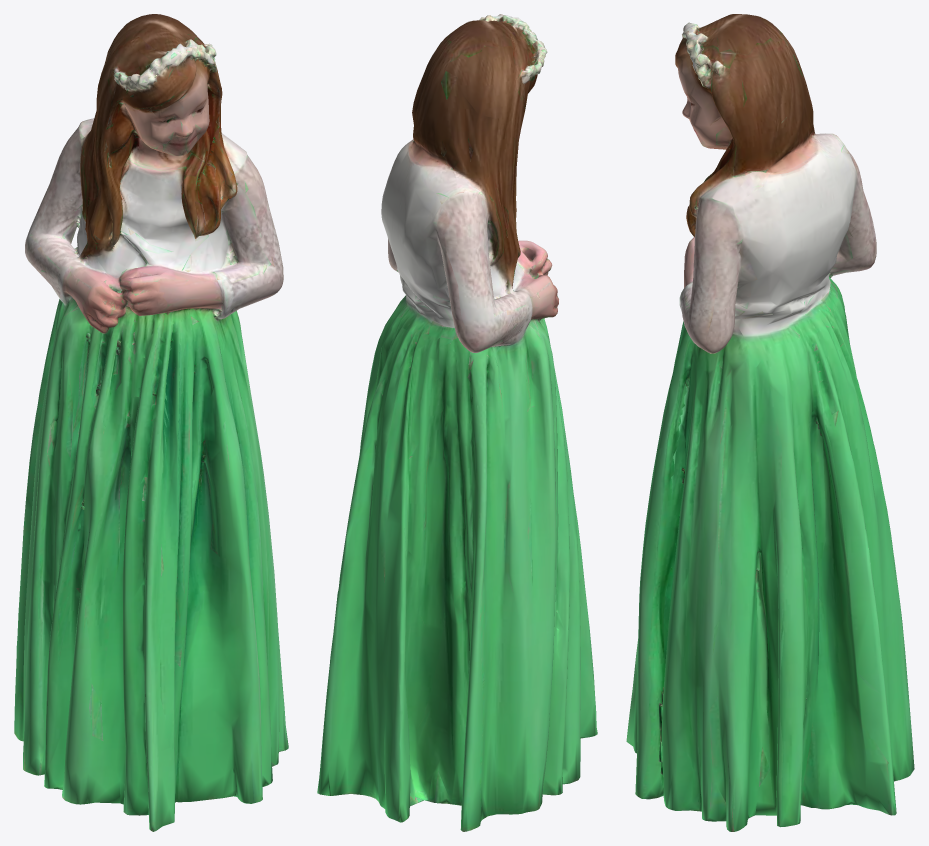
Rendered from penny-base.glb.
3 views of the same model, side by side, from view 1: azimuth 30°, elevation 25°; view 2: azimuth 150°, elevation 25°; view 3: azimuth 270°, elevation 25° (orthographic). The views are drawn at different scales.
Parts seen in each view (by area): view 1: Mesh_0; view 2: Mesh_0; view 3: Mesh_0.
Part boxes in pixels (x1,y1,x2,y2): Mesh_0: (14,14,288,831); Mesh_0: (317,14,597,831); Mesh_0: (626,14,914,831).
Bounding box in the file's own units: 0.5957 × 1.91 × 0.6599.
Materials: 1 (1 with a texture image).
